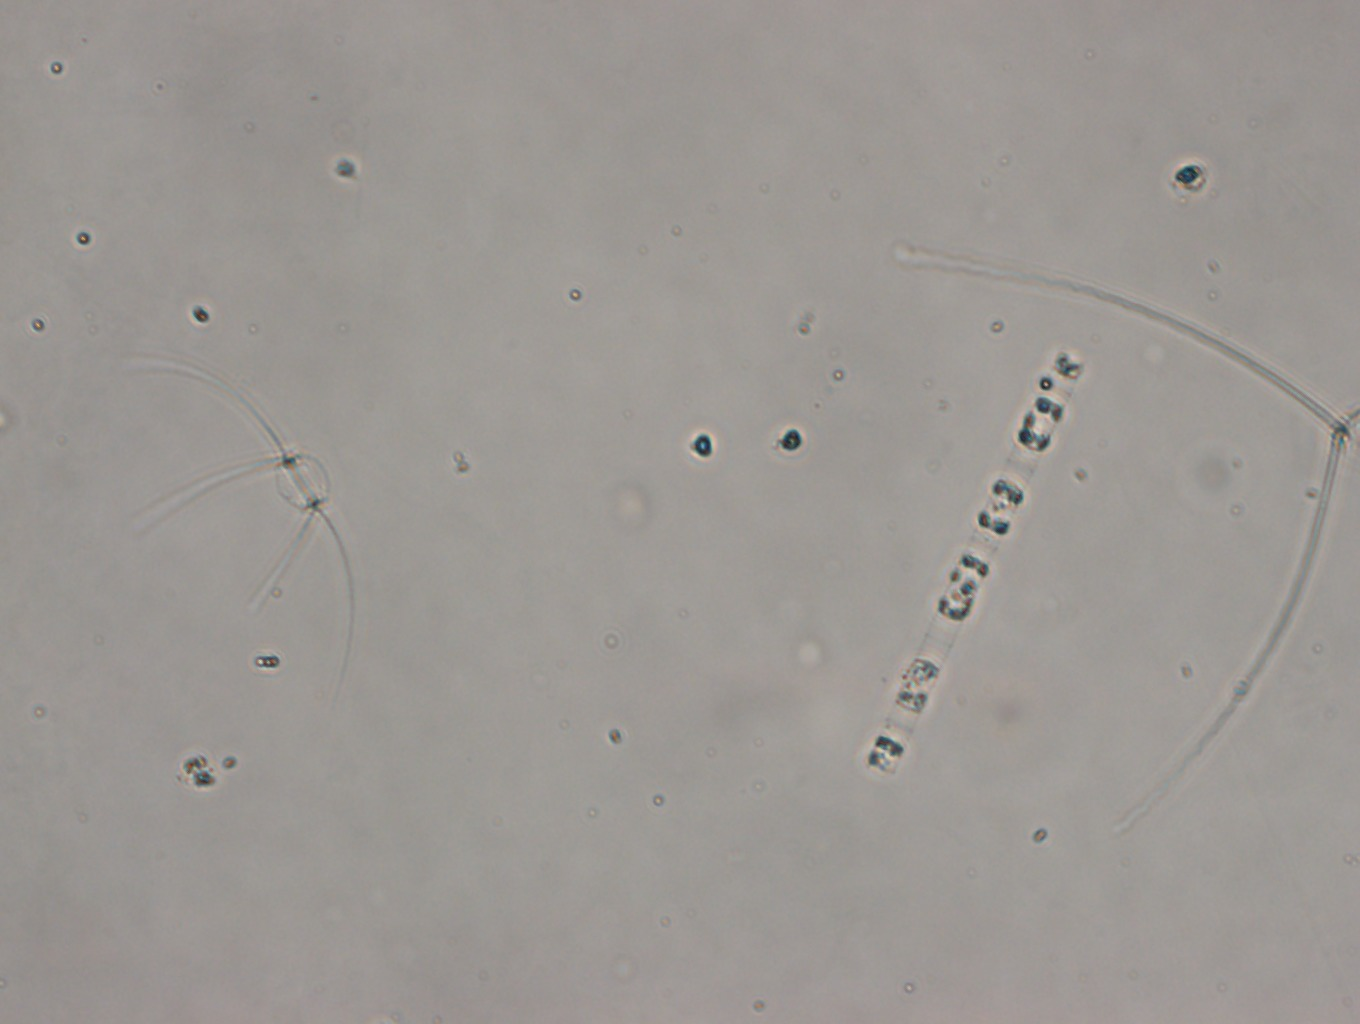chaetoceros: (123, 349, 355, 692)
skeletonema: (862, 343, 1085, 777)
